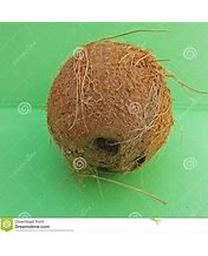coconut: (45, 40, 174, 175)
